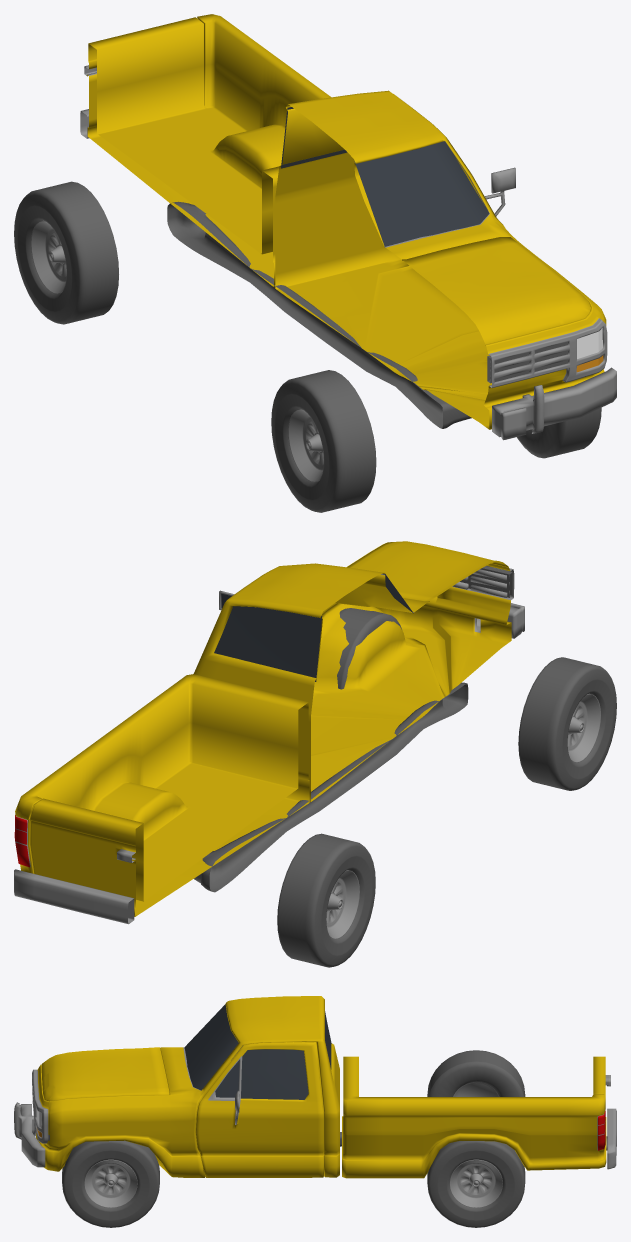
Rendered from Basic-model.glb.
3 views of the same model, one above another, from view 1: azimuth 30°, elevation 25°; view 2: azimuth 150°, elevation 25°; view 3: azimuth 270°, elevation 25° (orthographic). The views are drawn at different scales.
Parts seen in each view (by area): view 1: Cube, Cubo, Círculo.004, Círculo.007, Plane, Cubo.001, Círculo.001, Círculo.005, Círculo.006, Cubo.004; view 2: Cubo, Cube, Círculo.007, Círculo.004, Cubo.001, Plane, Círculo.001, Círculo.006, Círculo.005, Cubo.004; view 3: Cube, Cubo, Plane, Círculo.001, Círculo.002, Círculo.007, Círculo.003, Círculo, Círculo.006.
Part boxes in pixels (box(x1,y1,x2,y2)): Cube: box(275, 90, 616, 440); Cubo: box(80, 14, 330, 287); Círculo.004: box(271, 370, 376, 512); Círculo.007: box(14, 181, 118, 324); Plane: box(281, 107, 489, 246); Cubo.001: box(167, 201, 471, 428); Círculo.001: box(517, 407, 601, 458); Círculo.005: box(288, 409, 323, 482); Círculo.006: box(31, 220, 66, 293); Cubo.004: box(487, 341, 568, 383); Cubo: box(14, 674, 309, 924); Cube: box(193, 541, 524, 802); Círculo.007: box(277, 833, 375, 967); Círculo.004: box(518, 657, 616, 790); Cubo.001: box(194, 682, 468, 892); Plane: box(214, 573, 413, 681); Círculo.001: box(337, 608, 401, 689); Círculo.006: box(326, 870, 359, 938); Círculo.005: box(567, 693, 600, 762); Cubo.004: box(460, 566, 512, 597); Cube: box(14, 996, 339, 1177); Cubo: box(342, 1056, 616, 1178); Plane: box(184, 1004, 331, 1099); Círculo.001: box(62, 1140, 159, 1227); Círculo.002: box(427, 1141, 525, 1227); Círculo.007: box(427, 1050, 525, 1096); Círculo.003: box(449, 1159, 502, 1207); Círculo: box(84, 1159, 137, 1207); Círculo.006: box(453, 1082, 499, 1096).
Size of what is drawn, in the model's own units: 2.74 by 2.28 by 6.65.
